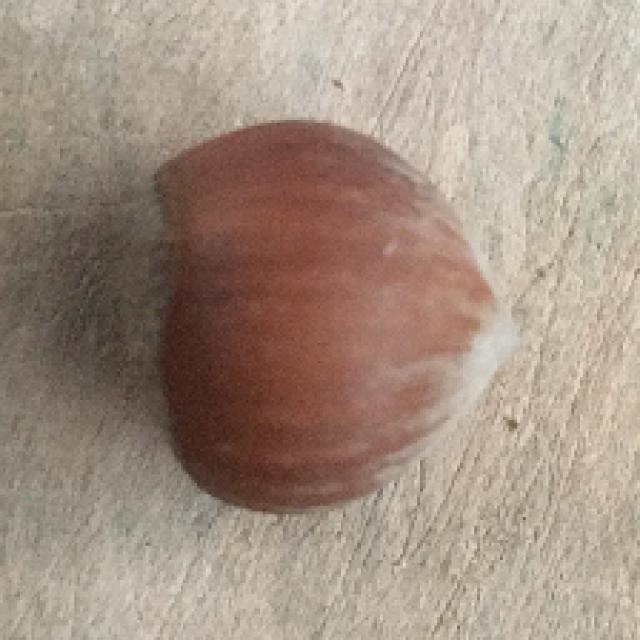qualityHazelnut: (113, 120, 504, 514)
